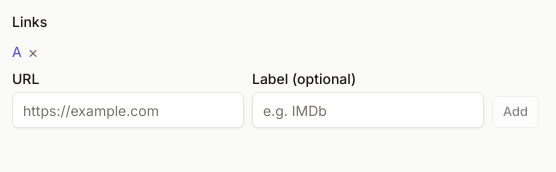
Test: ItemLinksEditor › rolls back the optimistic removal and shows an error if remove fails server-side
Click the button named "Remove A" at (33, 52), box [22,34,44,70]
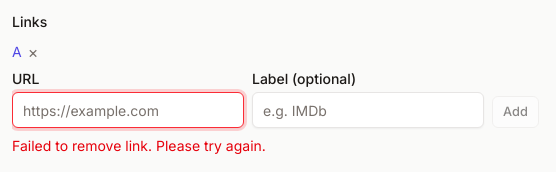
Expected: the link "A" is shown, [12,42,22,62]
Result: the message "Failed to remove link. Please try again." is shown at [12,137,266,154]
